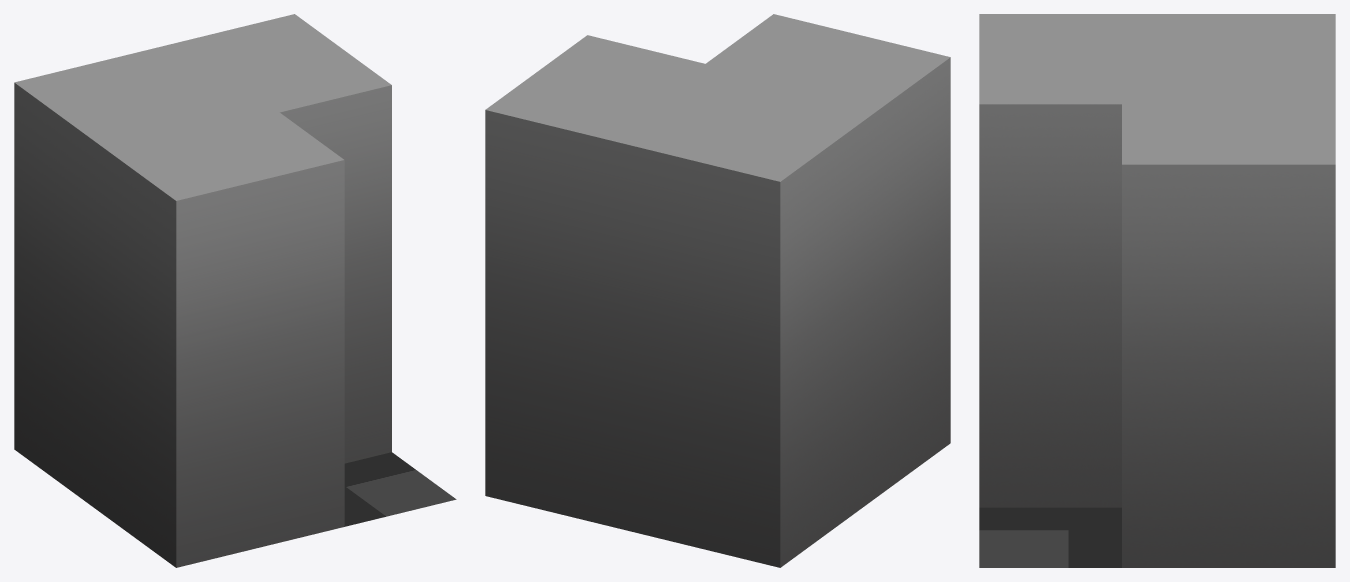
File: SM_MuurBuitenHoek.fbx
3 renders of one model, left to right at view 1: azimuth 30°, elevation 25°; view 2: azimuth 150°, elevation 25°; view 3: azimuth 270°, elevation 25°, orthographic. The views are drawn at different scales.
Visible parts, largest first — view 1: SM_muurBuitenHoek; view 2: SM_muurBuitenHoek; view 3: SM_muurBuitenHoek.
Boxes of the visible parts, bbox=[...] form: SM_muurBuitenHoek: bbox=[14, 14, 456, 567]; SM_muurBuitenHoek: bbox=[485, 14, 950, 567]; SM_muurBuitenHoek: bbox=[979, 14, 1335, 567].
Size of the model in its own units: 200 by 250 by 200.
